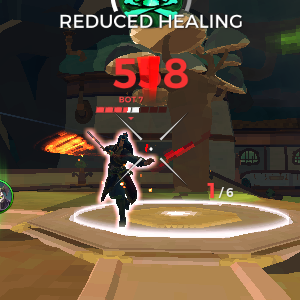model: (92, 125, 144, 232)
